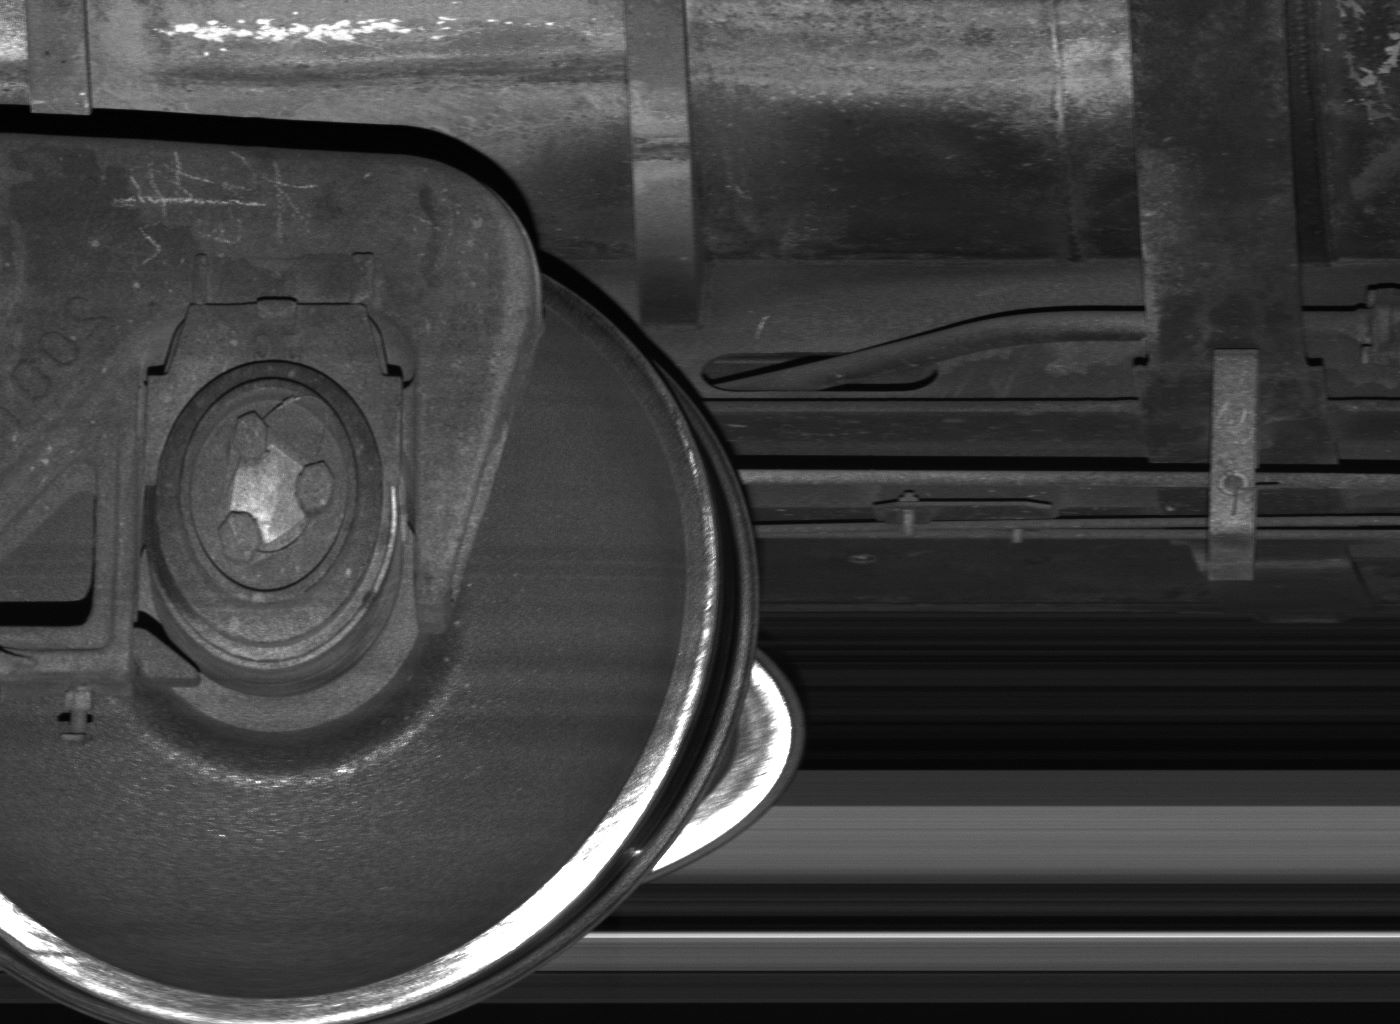normal: (1204, 349, 1259, 582)
